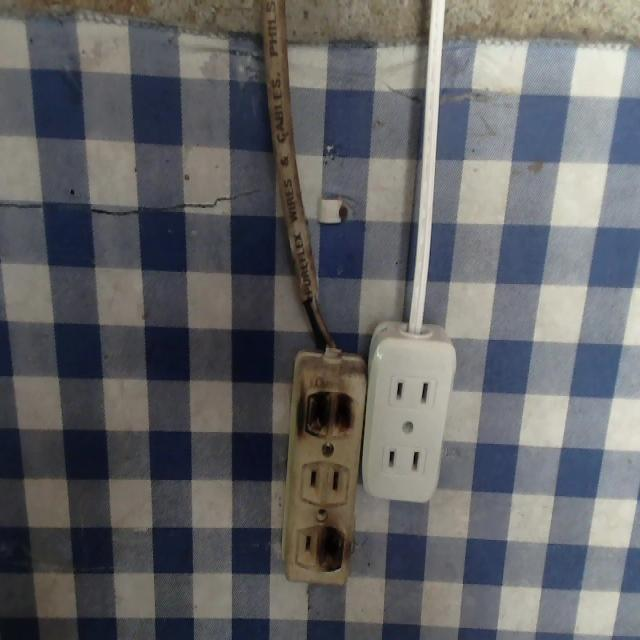-: (301, 386, 355, 438), (318, 522, 344, 570)
